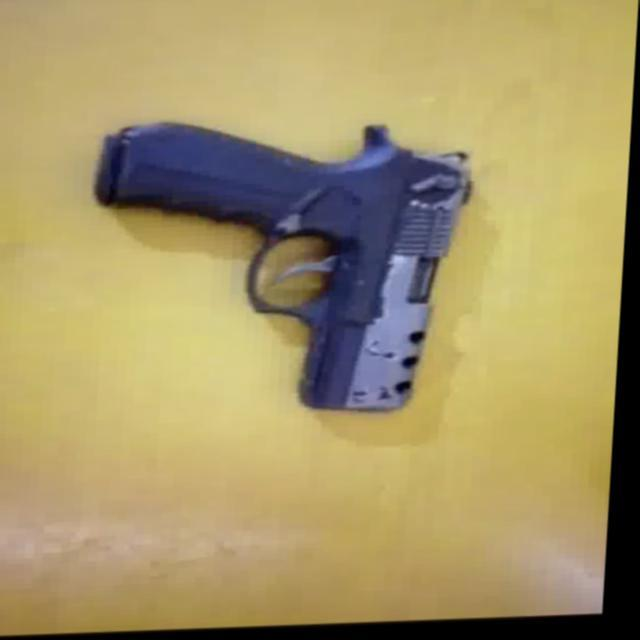weapon: (84, 113, 479, 424)
